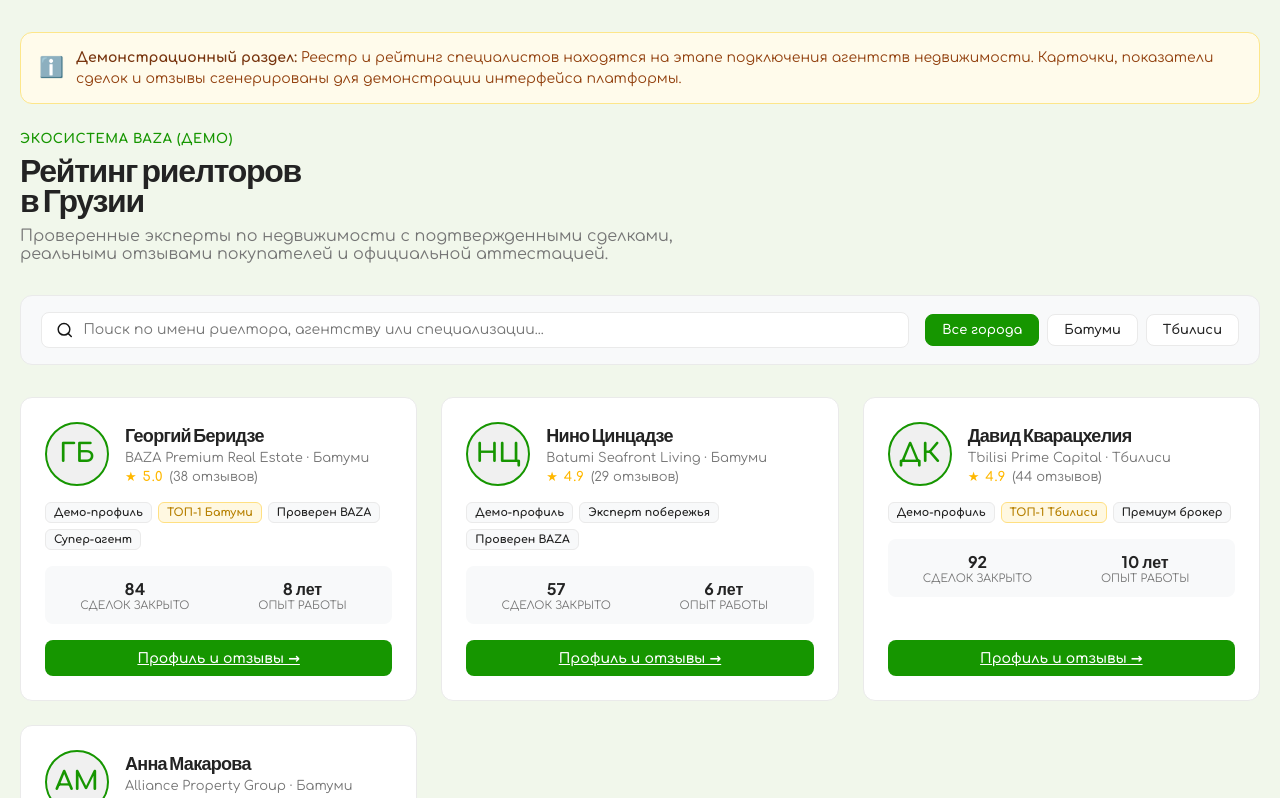
Scenario: Realtors Rating & Profiles Acceptance (MKT-SCR-014, MKT-SCR-015) › filters realtors list by text search input
In the search field named "Поиск по риелторам": (488, 330) left=82, top=321, right=894, bottom=338, type "Нино"
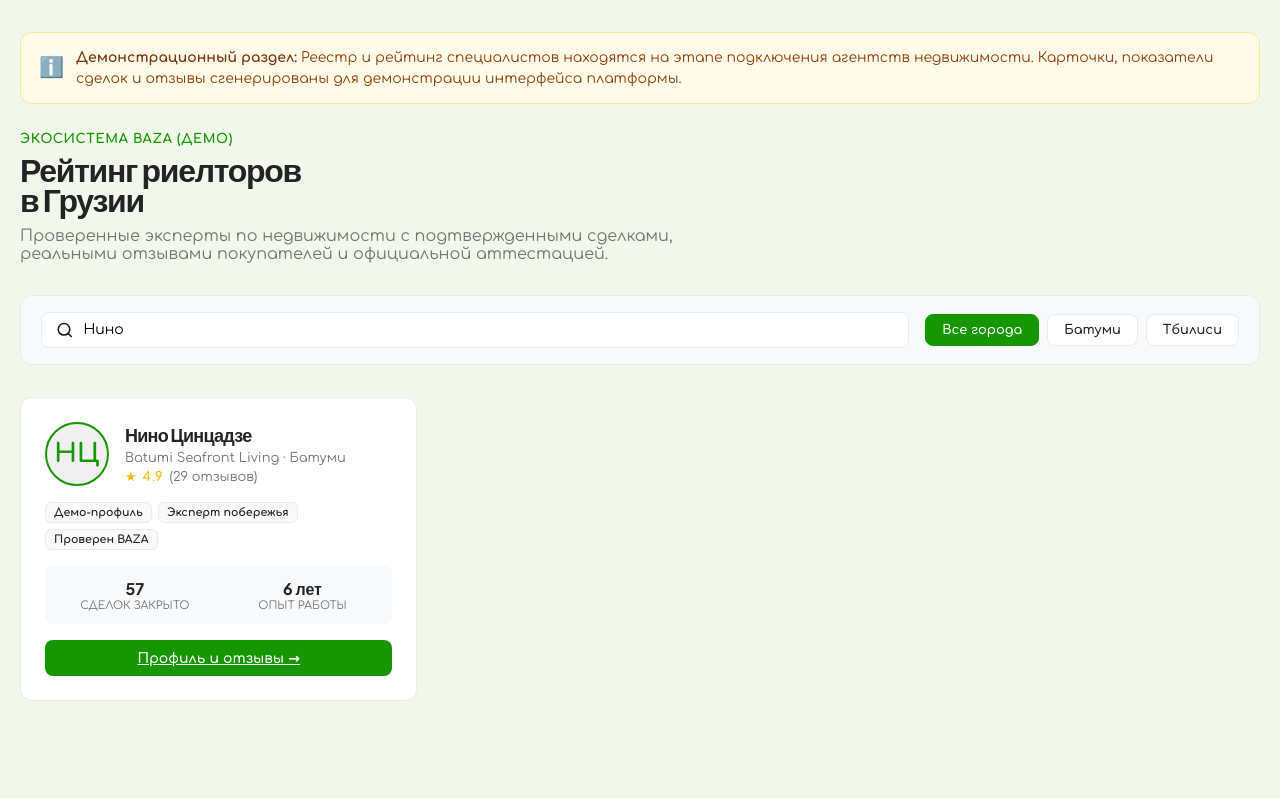
Expected: the heading "Нино Цинцадзе" is shown, left=125, top=423, right=252, bottom=446
Result: the heading "Георгий Беридзе" is gone
